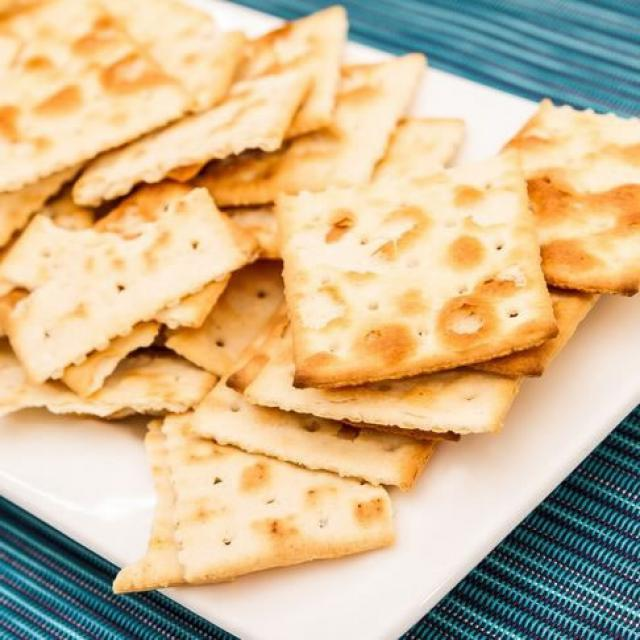Cracker: (264, 162, 572, 391), (113, 403, 408, 587), (17, 202, 259, 369), (483, 89, 639, 307)
